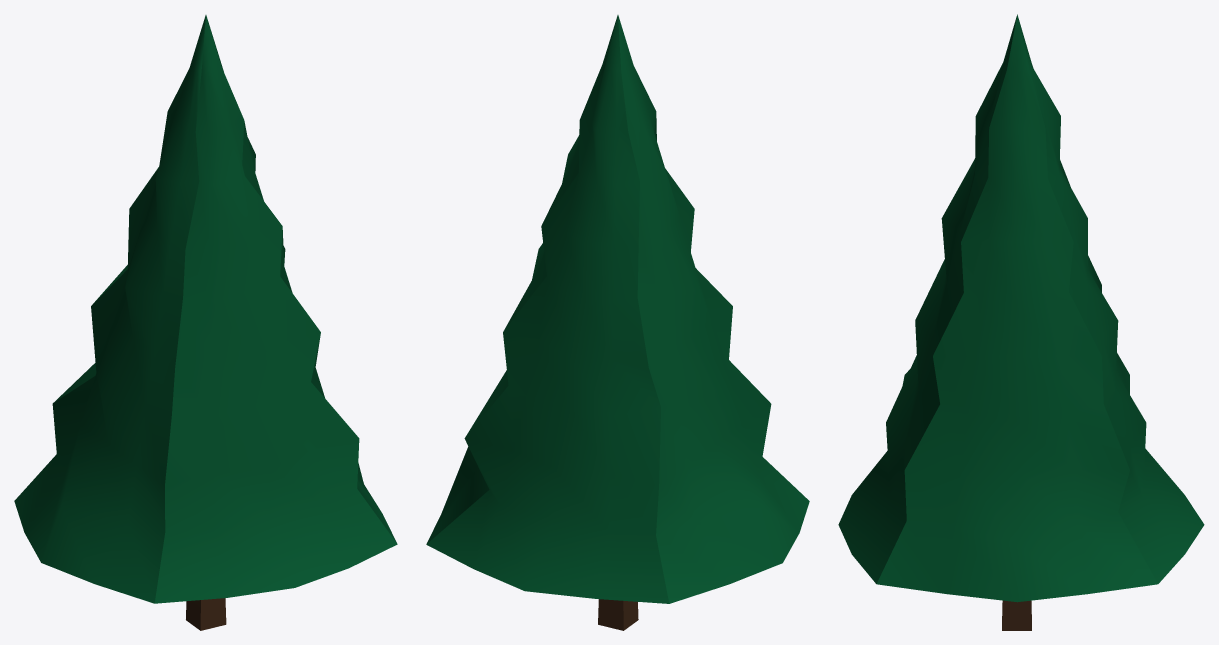
Rendered from Coni_Tree9.fbx.
3 renders of one model, left to right at view 1: azimuth 30°, elevation 25°; view 2: azimuth 150°, elevation 25°; view 3: azimuth 270°, elevation 25°, orthographic.
Parts seen in each view (by area): view 1: Coni_Tree9_Leaves, Coni_Tree9; view 2: Coni_Tree9_Leaves, Coni_Tree9; view 3: Coni_Tree9_Leaves, Coni_Tree9.
Part boxes in pixels (x1,y1,x2,y2): Coni_Tree9_Leaves: (14, 15, 397, 603); Coni_Tree9: (186, 598, 226, 630); Coni_Tree9_Leaves: (426, 15, 809, 603); Coni_Tree9: (598, 599, 638, 630); Coni_Tree9_Leaves: (838, 14, 1204, 602); Coni_Tree9: (1002, 600, 1031, 630).
Bounding box in the file's own units: 148 × 267 × 145.
